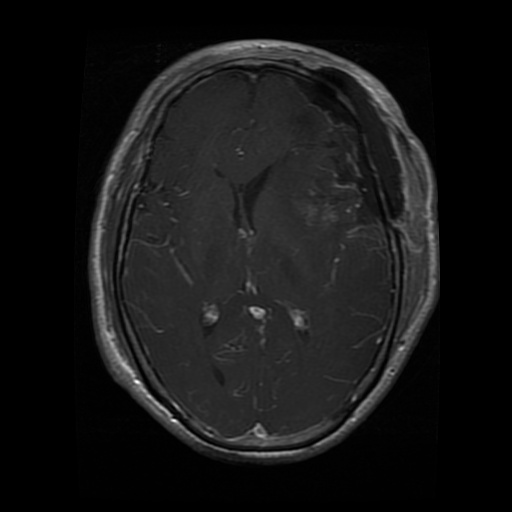glioma: (282, 65, 406, 236)
